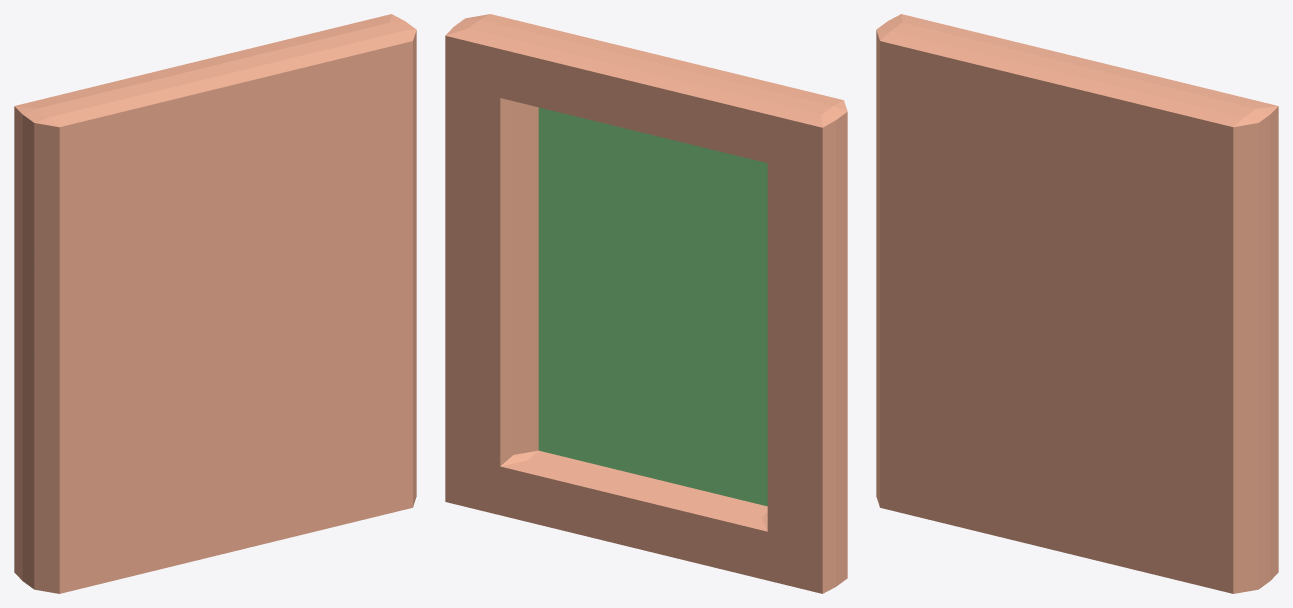
File: Picture_1_001.glb
3 renders of one model, left to right at view 1: azimuth 30°, elevation 25°; view 2: azimuth 150°, elevation 25°; view 3: azimuth 330°, elevation 25°, orthographic.
Parts seen in each view (by area): view 1: Picture_1_001; view 2: Picture_1_001; view 3: Picture_1_001.
Part boxes in pixels (x1,y1,x2,y2): Picture_1_001: (14, 14, 416, 593); Picture_1_001: (445, 14, 847, 593); Picture_1_001: (876, 14, 1278, 593).
Size of the model in its own units: 1.07 by 1.25 by 0.1607.
